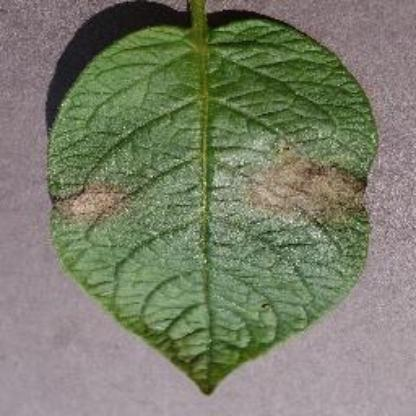Late-Blight: (33, 0, 398, 398)
